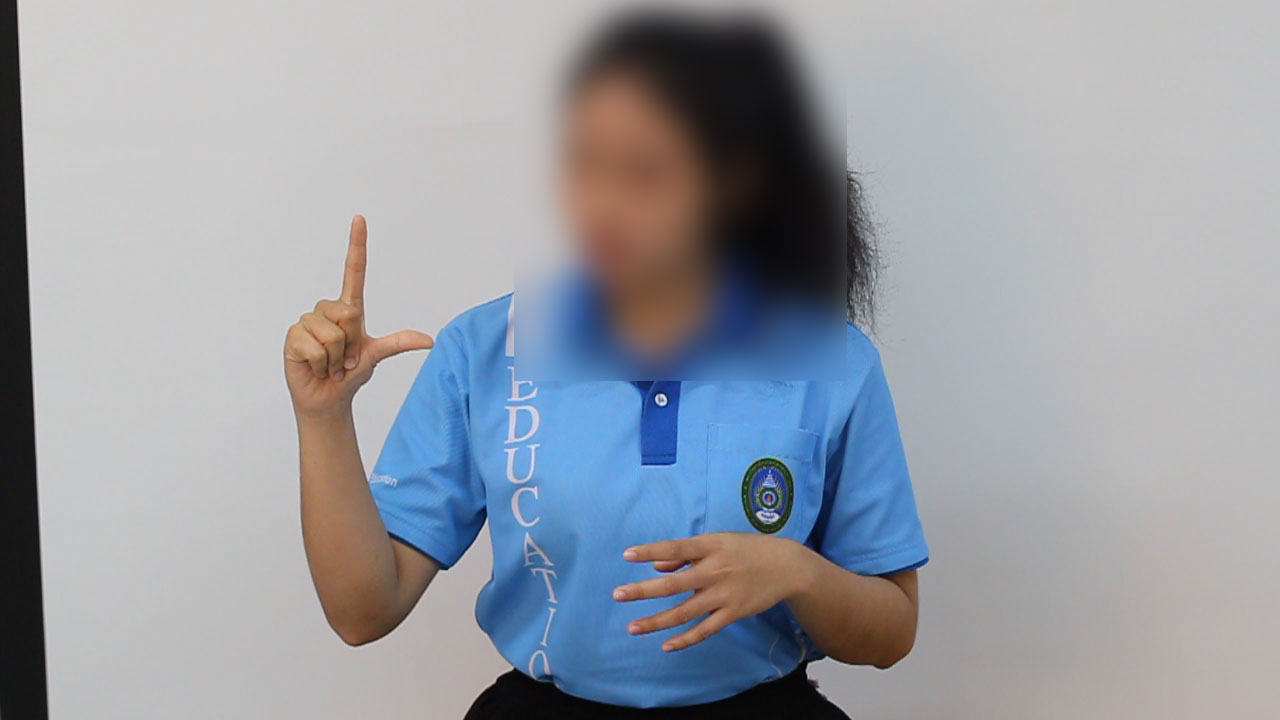lor: (202, 187, 439, 421)
